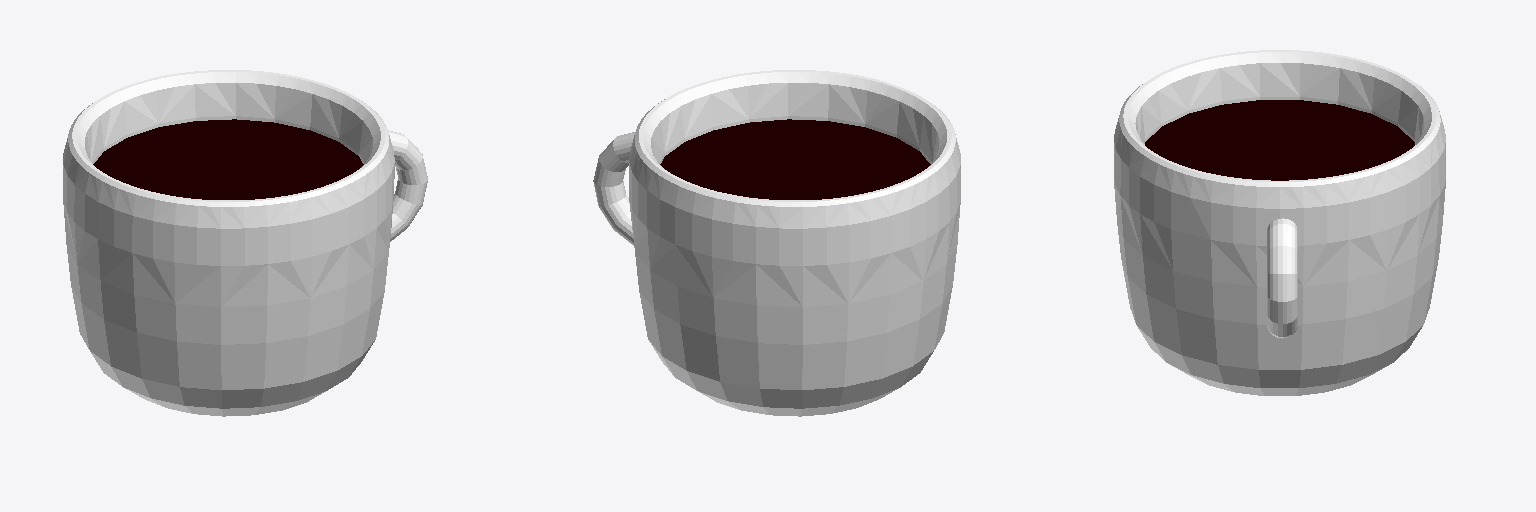
The model's file is cup.obj.
The picture shows the model from 3 angles: view 1: azimuth 30°, elevation 25°; view 2: azimuth 150°, elevation 25°; view 3: azimuth 270°, elevation 25°; orthographic projection.
Parts seen in each view (by area): view 1: nurbsToPoly3; view 2: nurbsToPoly3; view 3: nurbsToPoly3.
Boxes of the visible parts, x1=… form: nurbsToPoly3: x1=63, y1=70, x2=427, y2=416; nurbsToPoly3: x1=593, y1=70, x2=960, y2=416; nurbsToPoly3: x1=1114, y1=50, x2=1445, y2=395.
Size of the model in its own units: 0.3823 by 0.2701 by 0.3217.